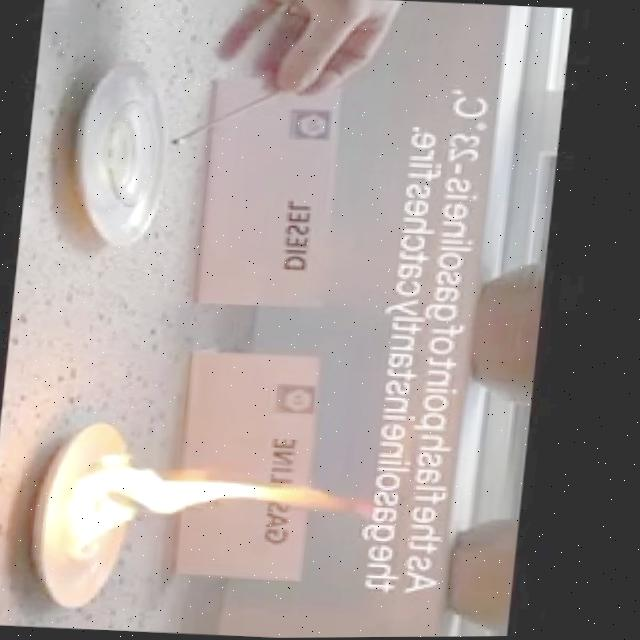Fire: (62, 445, 388, 569)
